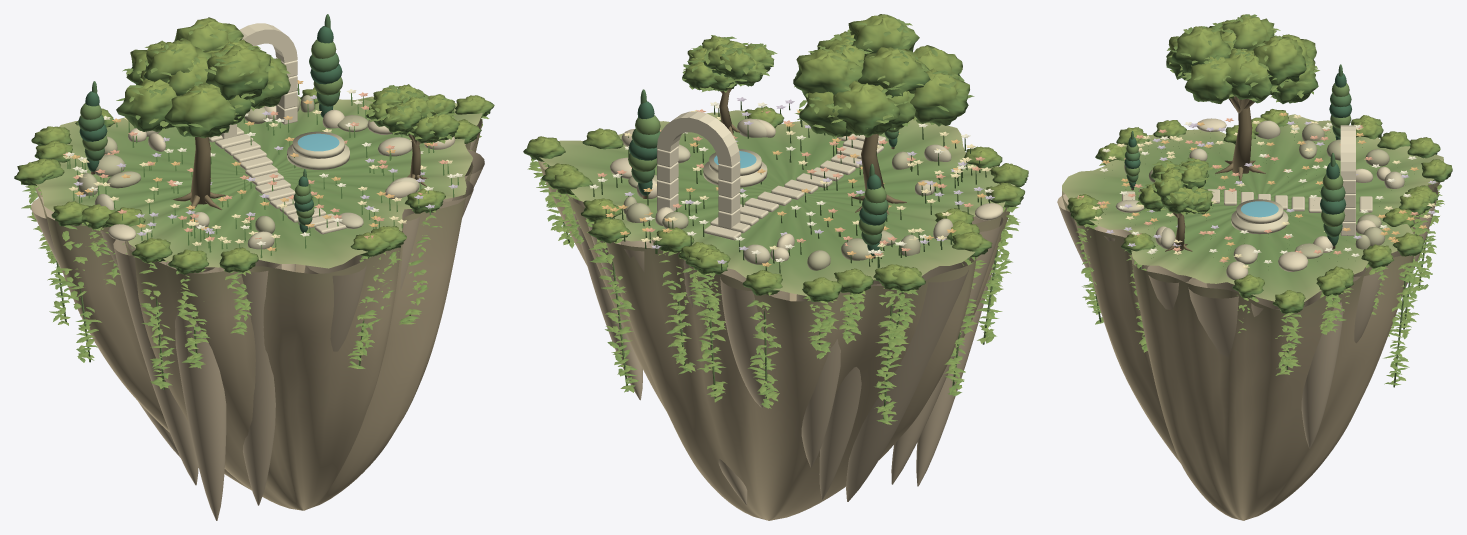
The model's file is island.glb.
The picture shows the model from 3 angles, left to right: view 1: azimuth 30°, elevation 25°; view 2: azimuth 150°, elevation 25°; view 3: azimuth 270°, elevation 25°; orthographic projection. The views are drawn at different scales.
Parts seen in each view (by area): view 1: island_fixed_Warm limestone, island_fixed_Garden foliage, island_fixed_Flower petals, island_fixed_Oiled cedar, island_fixed_Cabin glass; view 2: island_fixed_Garden foliage, island_fixed_Warm limestone, island_fixed_Flower petals, island_fixed_Oiled cedar; view 3: island_fixed_Warm limestone, island_fixed_Garden foliage, island_fixed_Flower petals, island_fixed_Oiled cedar, island_fixed_Cabin glass.
Boxes of the visible parts, left/top/right/bottom form: island_fixed_Warm limestone: left=31, top=23, right=484, bottom=520; island_fixed_Garden foliage: left=14, top=14, right=494, bottom=389; island_fixed_Flower petals: left=63, top=80, right=462, bottom=257; island_fixed_Oiled cedar: left=91, top=134, right=428, bottom=233; island_fixed_Cabin glass: left=297, top=133, right=339, bottom=151; island_fixed_Garden foliage: left=523, top=14, right=1028, bottom=424; island_fixed_Warm limestone: left=538, top=111, right=1009, bottom=520; island_fixed_Flower petals: left=589, top=97, right=994, bottom=273; island_fixed_Oiled cedar: left=642, top=89, right=906, bottom=258; island_fixed_Warm limestone: left=1057, top=118, right=1439, bottom=520; island_fixed_Garden foliage: left=1062, top=14, right=1452, bottom=387; island_fixed_Flower petals: left=1077, top=112, right=1437, bottom=268; island_fixed_Oiled cedar: left=1131, top=96, right=1335, bottom=254; island_fixed_Cabin glass: left=1241, top=201, right=1278, bottom=217.
Size of the model in its own units: 12.1 by 12.93 by 10.26.
